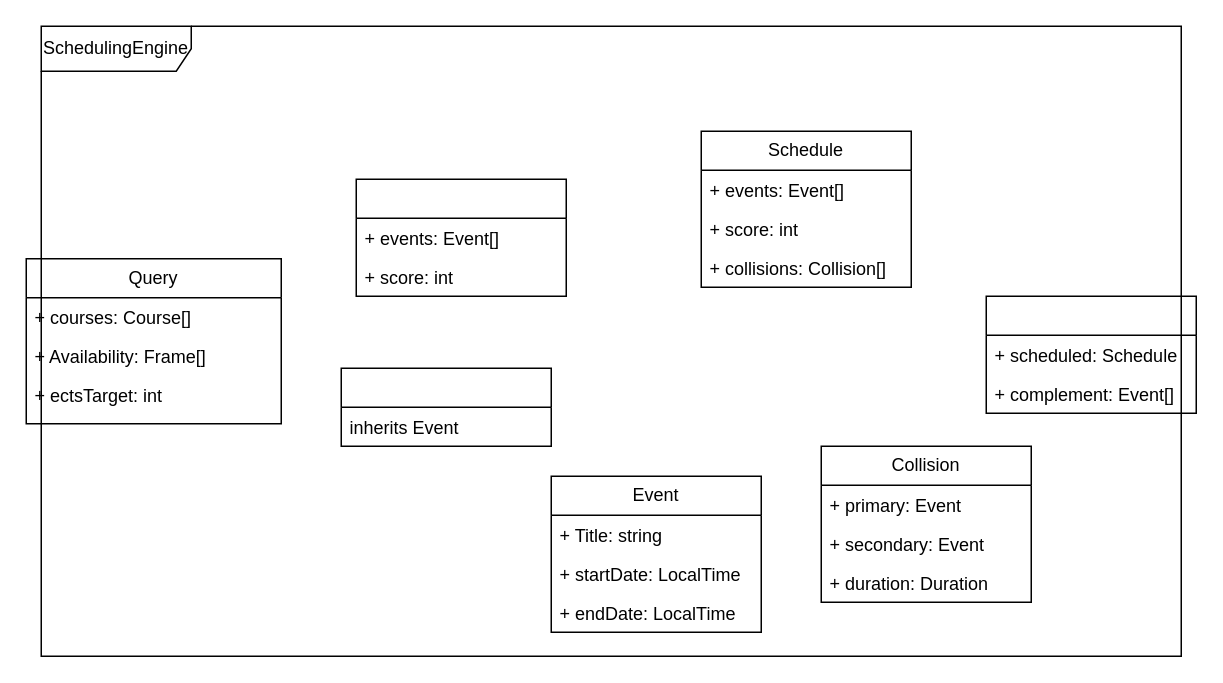
This 1223x683 diagram has some shape labels left out. Here are the shapes that lost their labels. From the top down, the box of each, then its label:
(355, 178, 566, 296): Course
(985, 295, 1196, 413): Response
(340, 367, 551, 446): Frame
